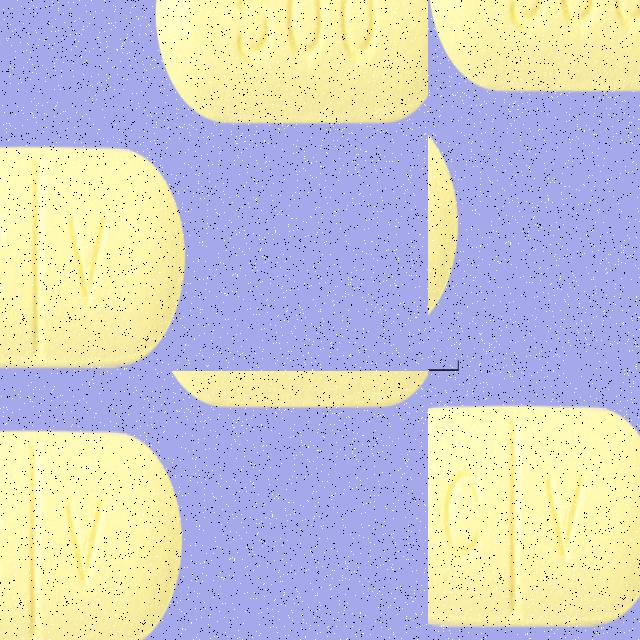Ciplus: (444, 0, 640, 340)
Ciptec: (25, 448, 217, 640)
Clacin: (0, 174, 289, 371)
Cravit: (428, 403, 640, 626)
